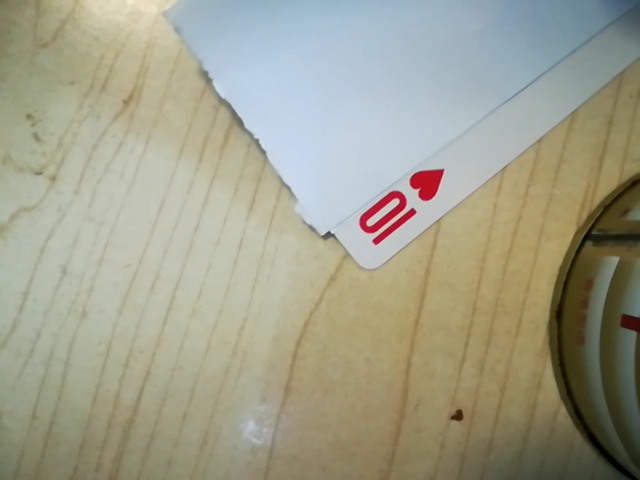hx 10: (348, 163, 448, 252)
